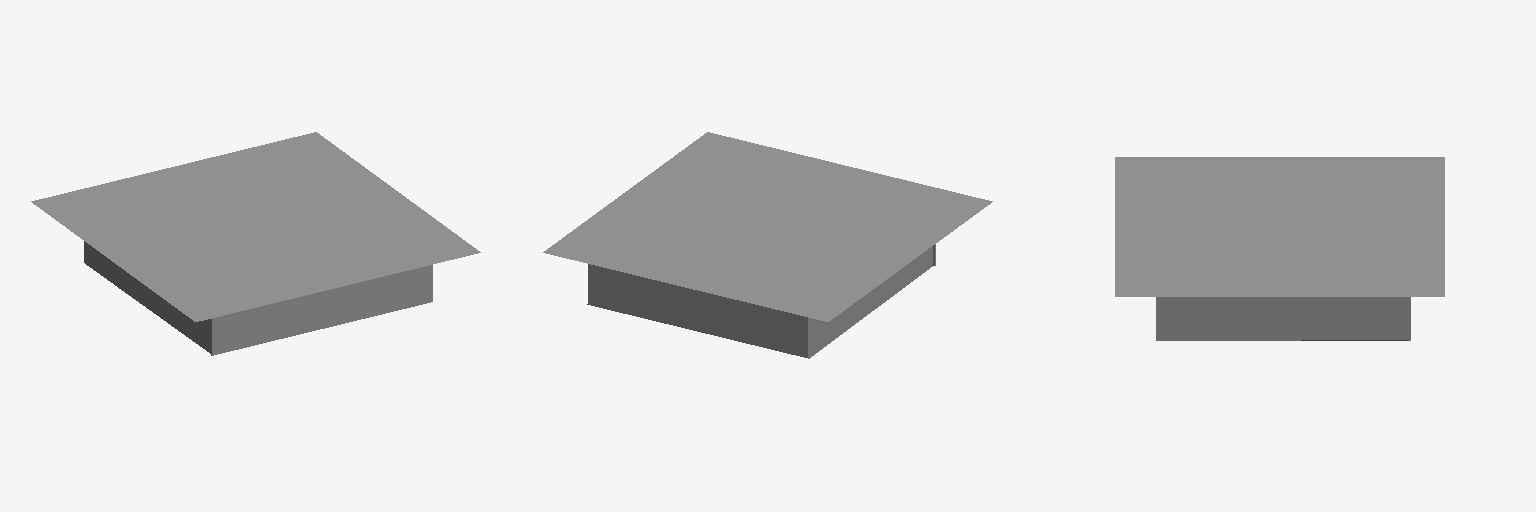
The model's file is hall5.obj.
3 views of the same model, side by side, from view 1: azimuth 30°, elevation 25°; view 2: azimuth 150°, elevation 25°; view 3: azimuth 270°, elevation 25° (orthographic).
Visible parts, largest first — view 1: Plane.001_Plane.002, Cube.001, Cube.004; view 2: Plane.001_Plane.002, Cube.002, Cube.004; view 3: Plane.001_Plane.002, Cube.003.
Boxes of the visible parts, x1=… form: Plane.001_Plane.002: x1=31, y1=132, x2=480, y2=321; Cube.001: x1=211, y1=245, x2=430, y2=355; Cube.004: x1=84, y1=205, x2=213, y2=355; Plane.001_Plane.002: x1=543, y1=132, x2=992, y2=321; Cube.002: x1=588, y1=248, x2=808, y2=358; Cube.004: x1=807, y1=217, x2=932, y2=358; Plane.001_Plane.002: x1=1115, y1=157, x2=1444, y2=296; Cube.003: x1=1156, y1=281, x2=1410, y2=340.
Size of the model in its own units: 259 by 50 by 259.